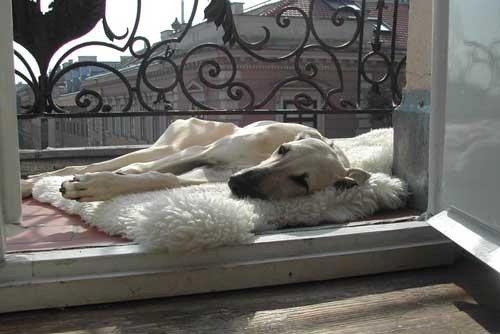dog: (28, 111, 380, 212)
